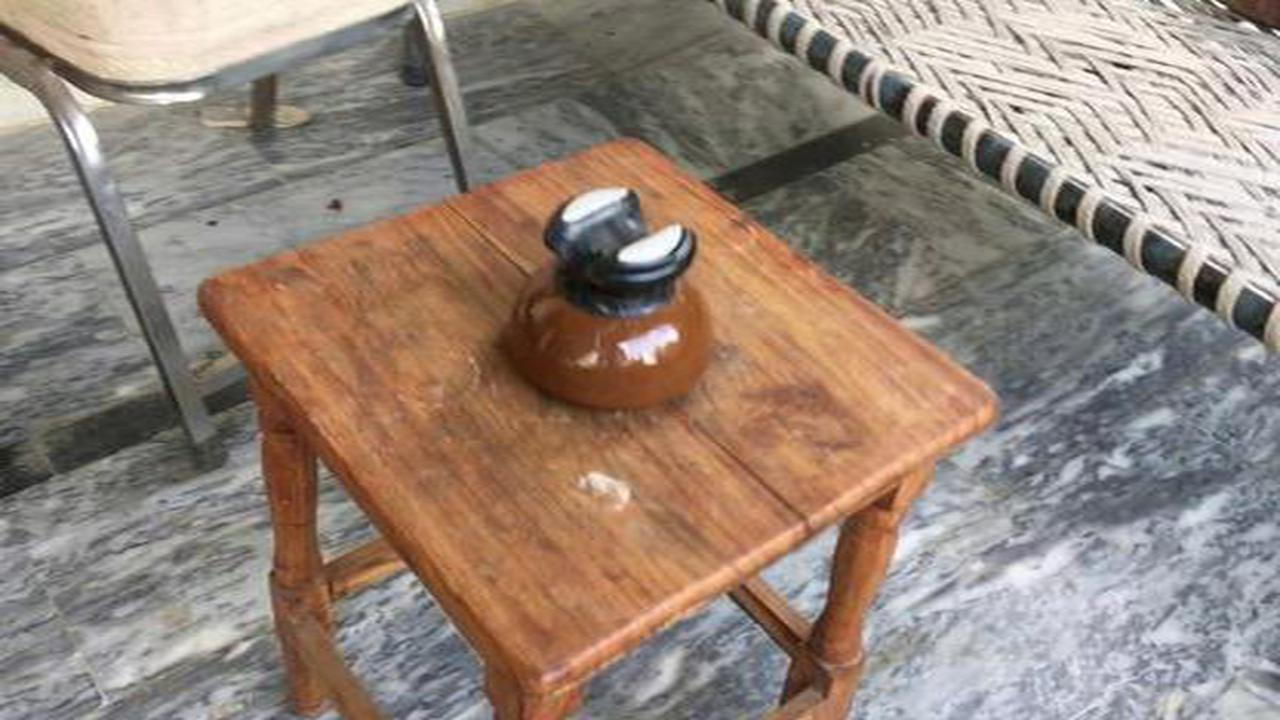insulator_pin: (484, 172, 739, 431)
